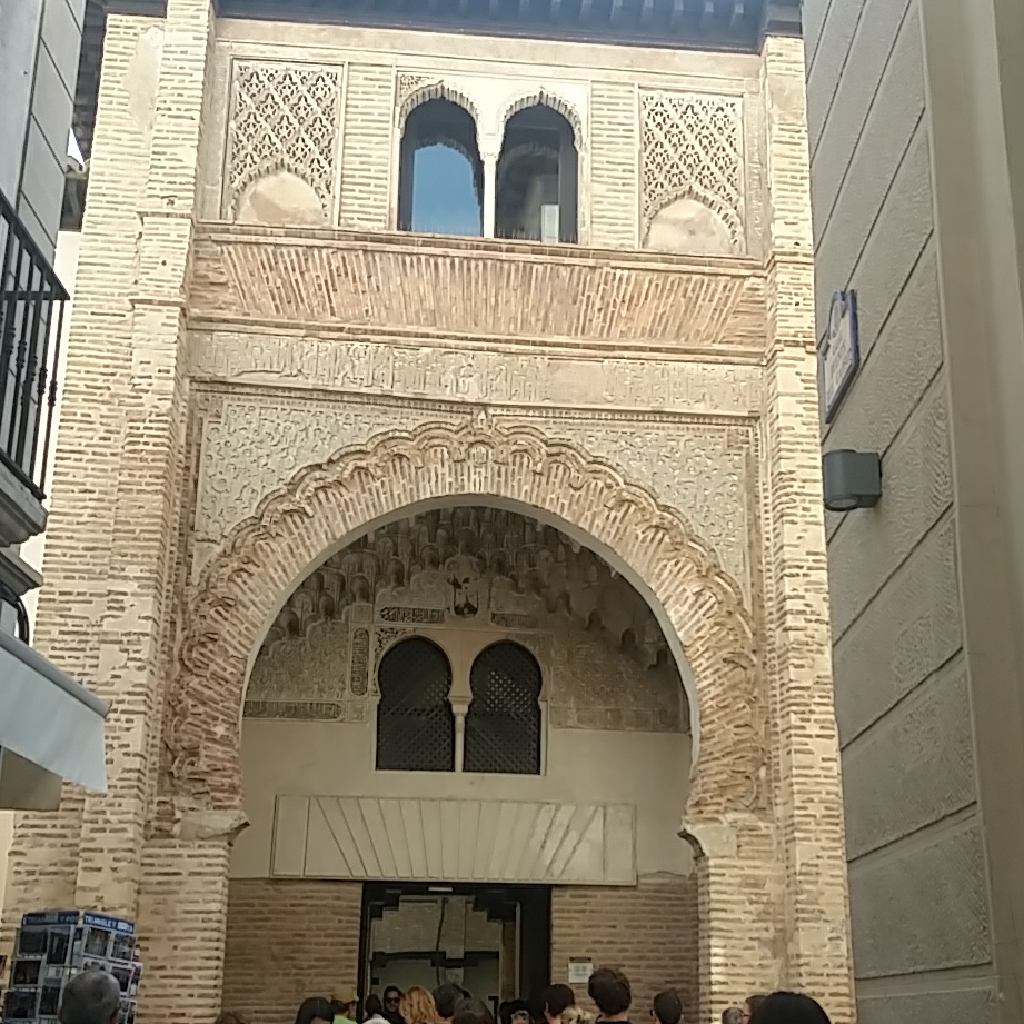arco-herradura: (205, 474, 730, 865), (367, 629, 461, 715), (461, 633, 551, 717)
dintel-adovelado: (219, 228, 745, 356), (312, 793, 602, 886)
